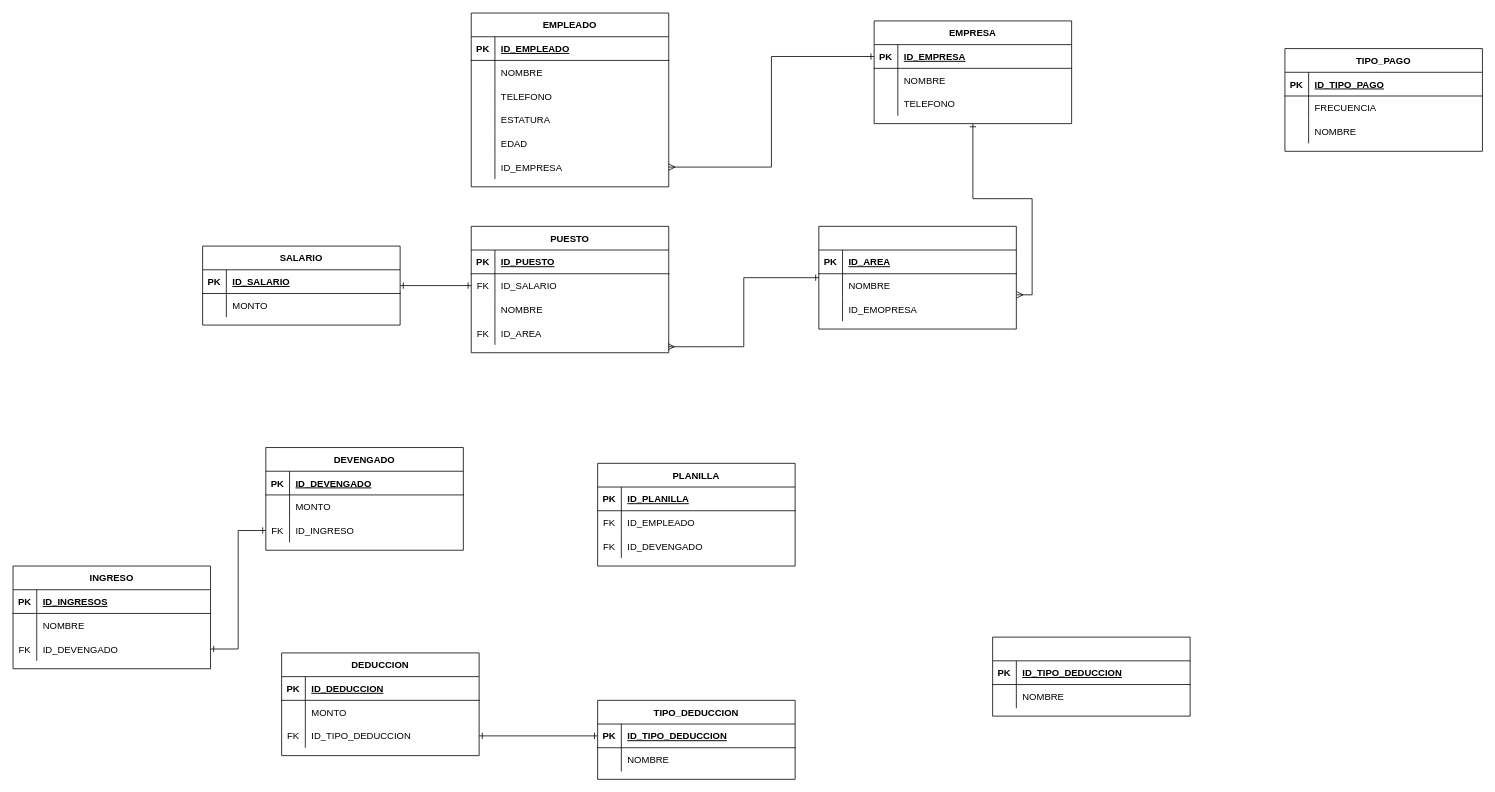
This 1495x792 diagram has some shape labels left out. The box of each missing label's shape, as (x1, y1, x2, y2) in pixels:
AREA_TRABAJO: (818, 226, 1016, 329)
HISTORIA_SALARIAL: (992, 636, 1190, 716)
